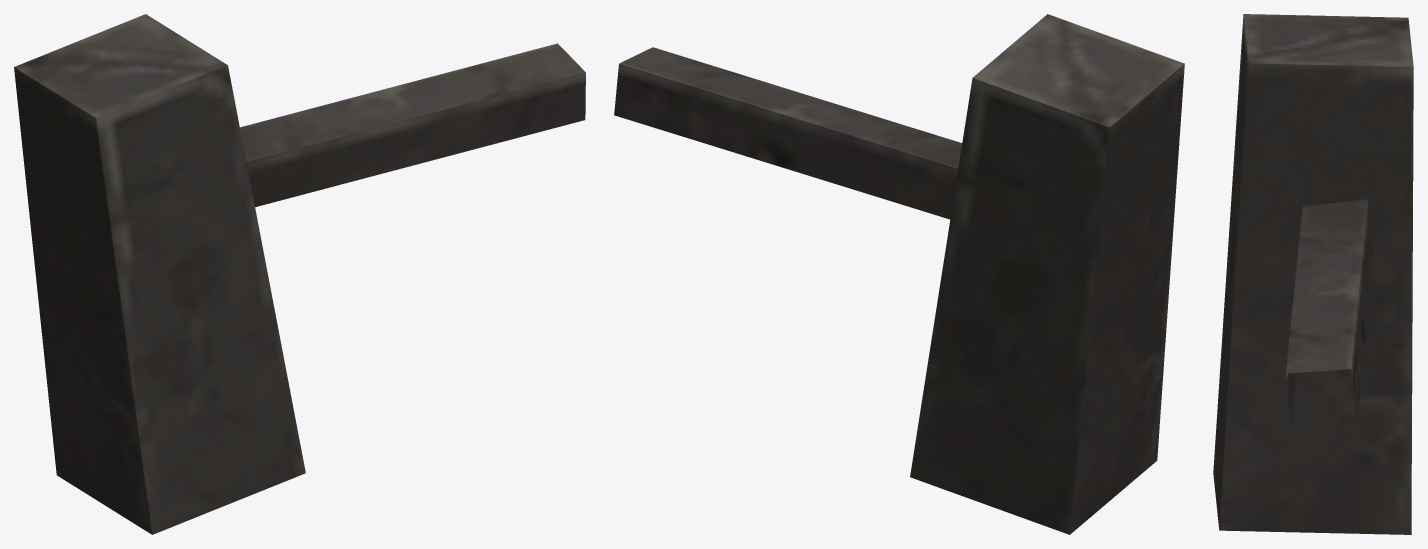
The model's file is common_underground_xiaoweilan02.FBX.
The picture shows the model from 3 angles, left to right: view 1: azimuth 30°, elevation 25°; view 2: azimuth 150°, elevation 25°; view 3: azimuth 270°, elevation 25°; orthographic projection. The views are drawn at different scales.
Visible parts, largest first — view 1: common_underground_xiaoweilan02; view 2: common_underground_xiaoweilan02; view 3: common_underground_xiaoweilan02.
Part boxes in pixels (x1,y1,x2,y2): common_underground_xiaoweilan02: [14, 14, 585, 534]; common_underground_xiaoweilan02: [614, 14, 1184, 534]; common_underground_xiaoweilan02: [1213, 14, 1413, 534].
Size of the model in its own units: 1.85 by 1.5 by 0.589.
